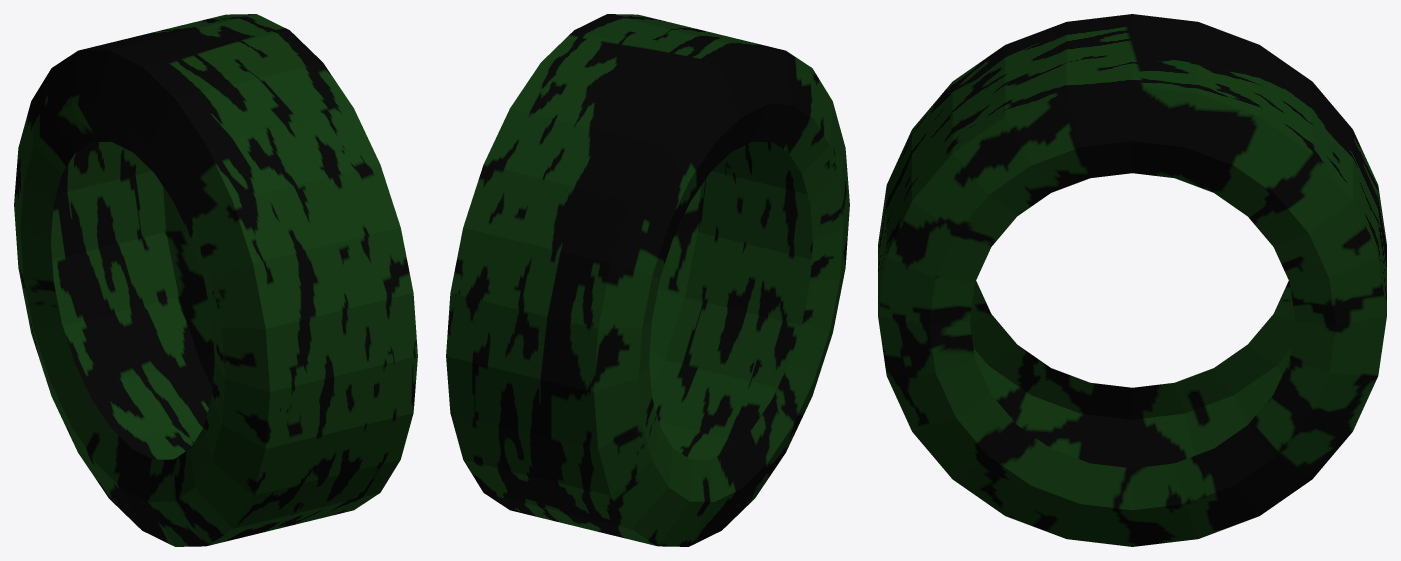
Rendered from WheelFL_Tire.obj.
3 renders of one model, left to right at view 1: azimuth 30°, elevation 25°; view 2: azimuth 150°, elevation 25°; view 3: azimuth 270°, elevation 25°, orthographic.
Parts seen in each view (by area): view 1: WheelFL_Tire; view 2: WheelFL_Tire; view 3: WheelFL_Tire.
Boxes of the visible parts, x1,y1,x2,y2 form: WheelFL_Tire: (14, 14, 417, 546); WheelFL_Tire: (446, 14, 849, 546); WheelFL_Tire: (878, 14, 1386, 546).
Bounding box in the file's own units: 1.26 × 3 × 3.
